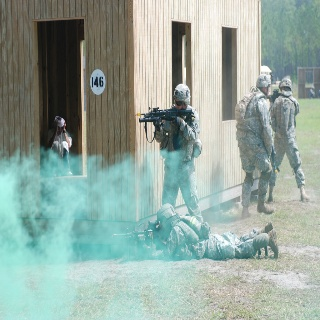rifle: (138, 107, 193, 125)
